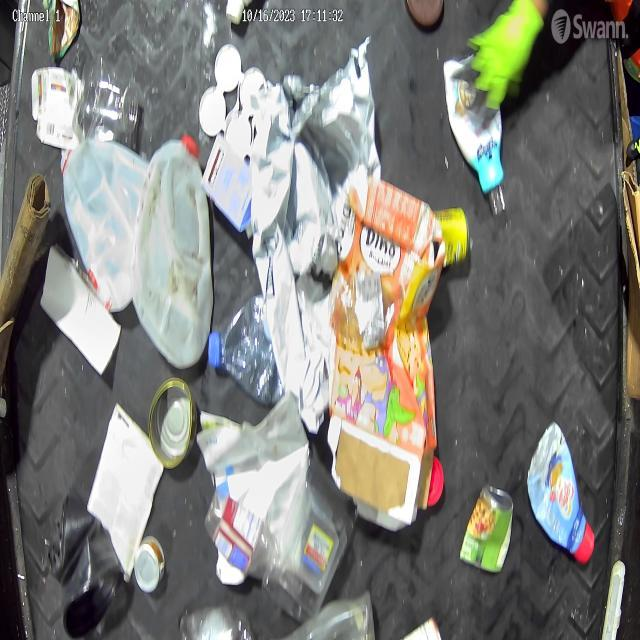can: (462, 482, 512, 570)
milk_jug: (134, 130, 210, 364), (51, 143, 152, 307)
plastic_bottle: (208, 300, 298, 400), (203, 486, 276, 579)
